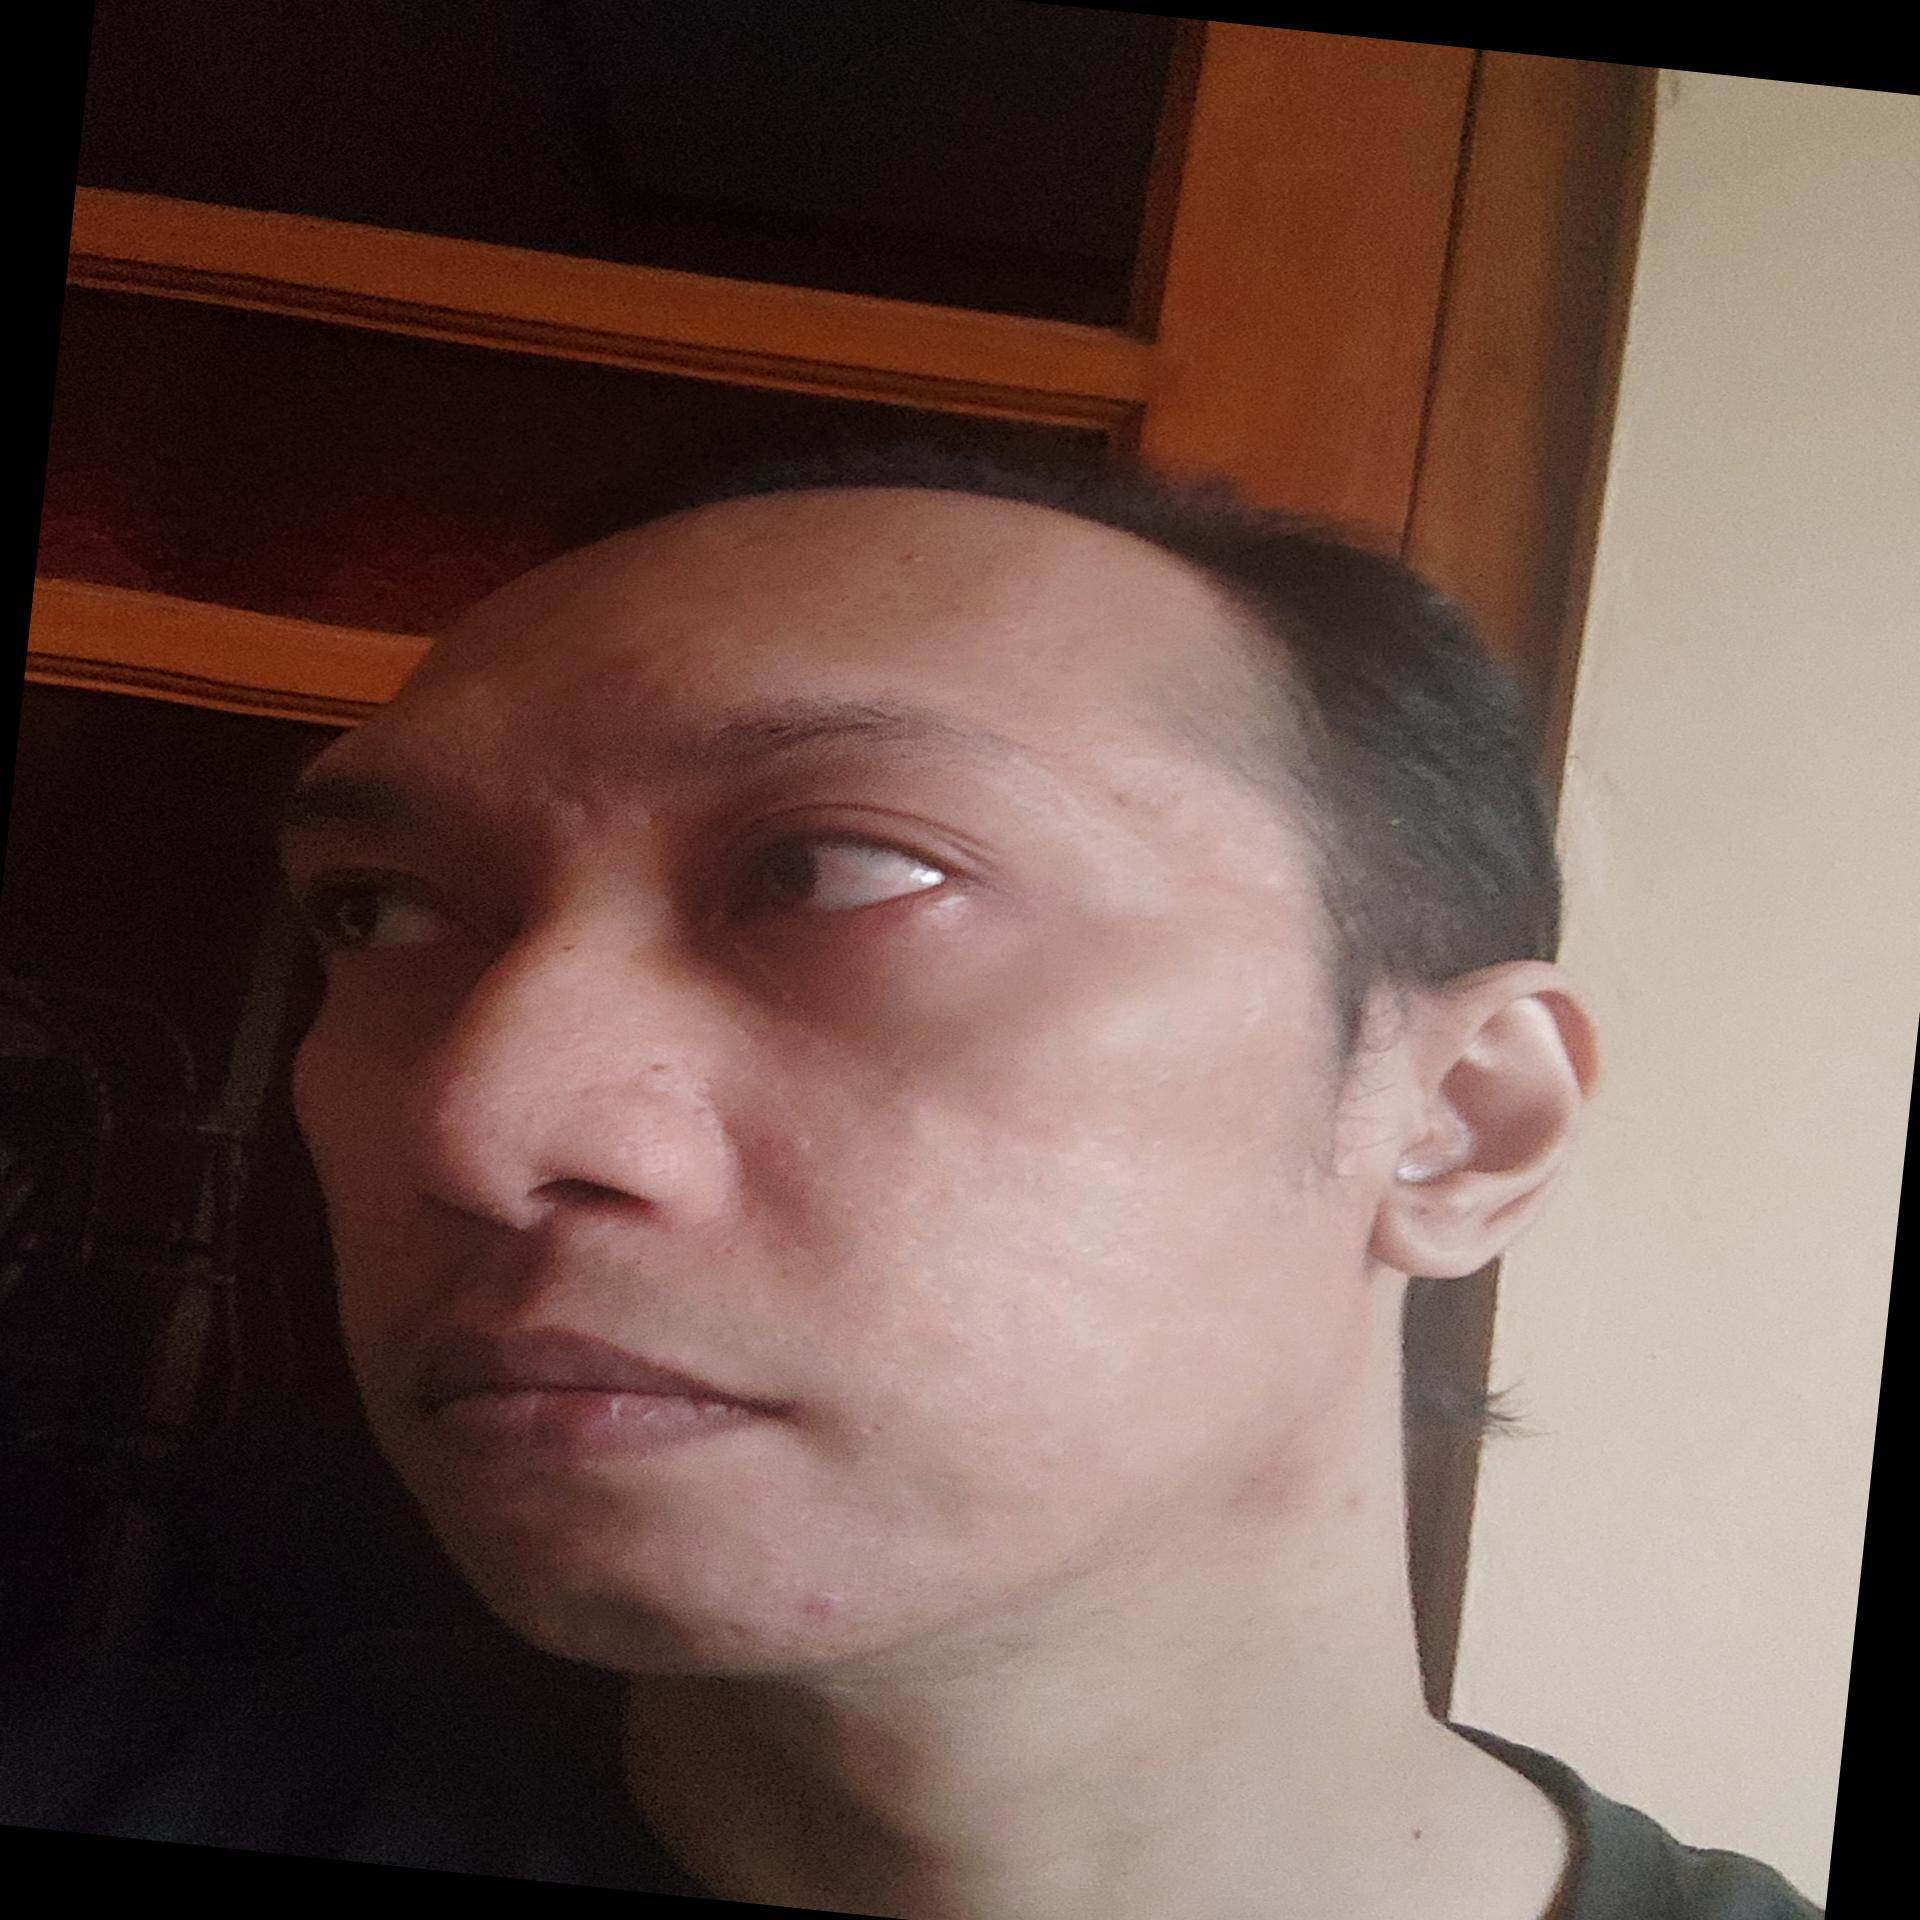Acne: (777, 1575, 862, 1630), (886, 543, 932, 573)
Englarged Pores: (571, 1090, 717, 1187)
